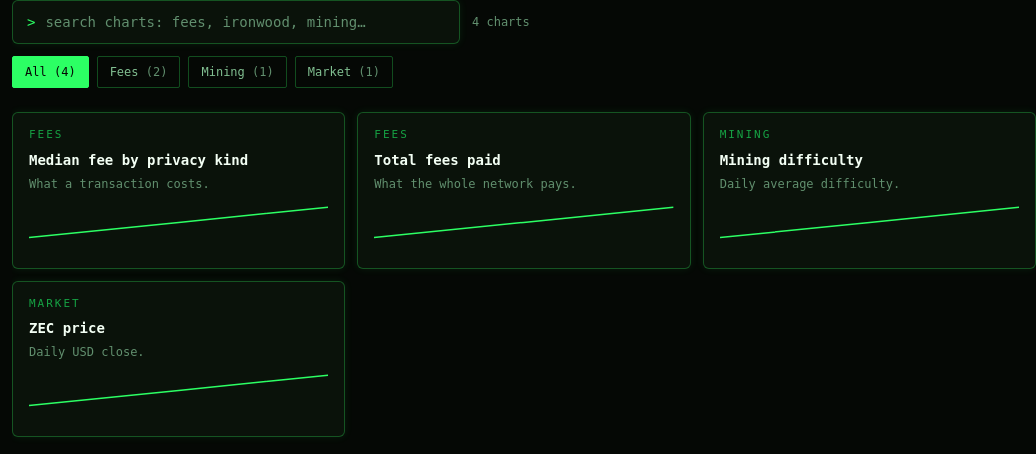
it: ChartLibrary › narrows as you type, every word having to match
Type "fee" into the search field named "search charts" at [245, 22], box [45, 12, 445, 32]
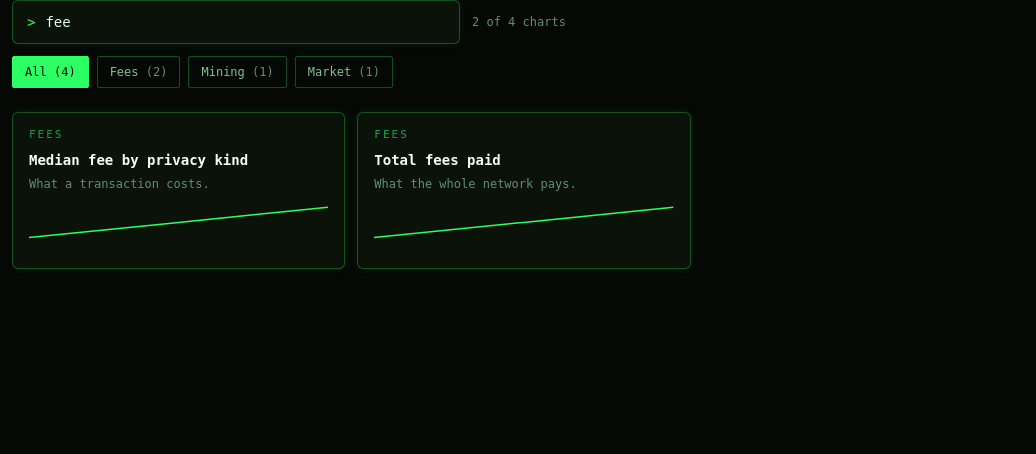
Expected: the number of links is 2, [12, 112, 345, 268]; [357, 112, 691, 268]
Replace the text in the search field named "search charts" with "fee network" at [245, 22], box [45, 12, 445, 32]
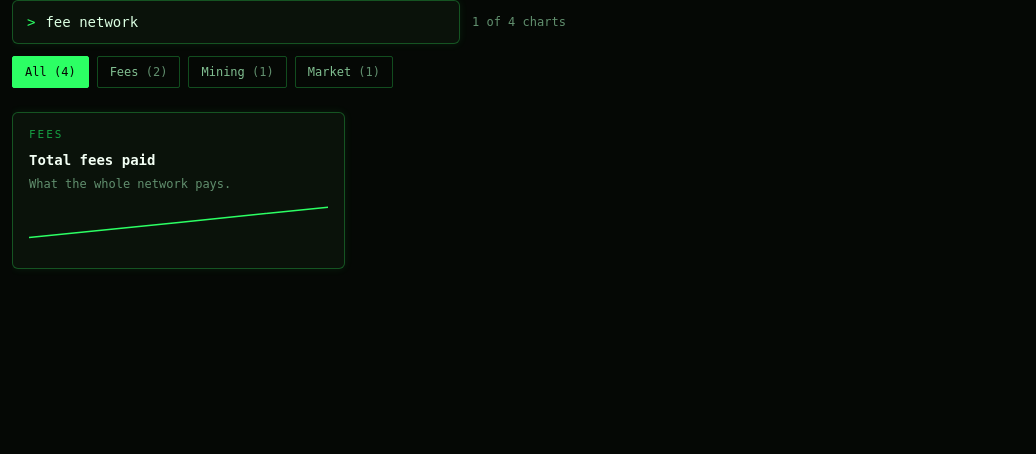
Expected: the text "1 of 4 charts" is shown, [472, 14, 566, 30]
